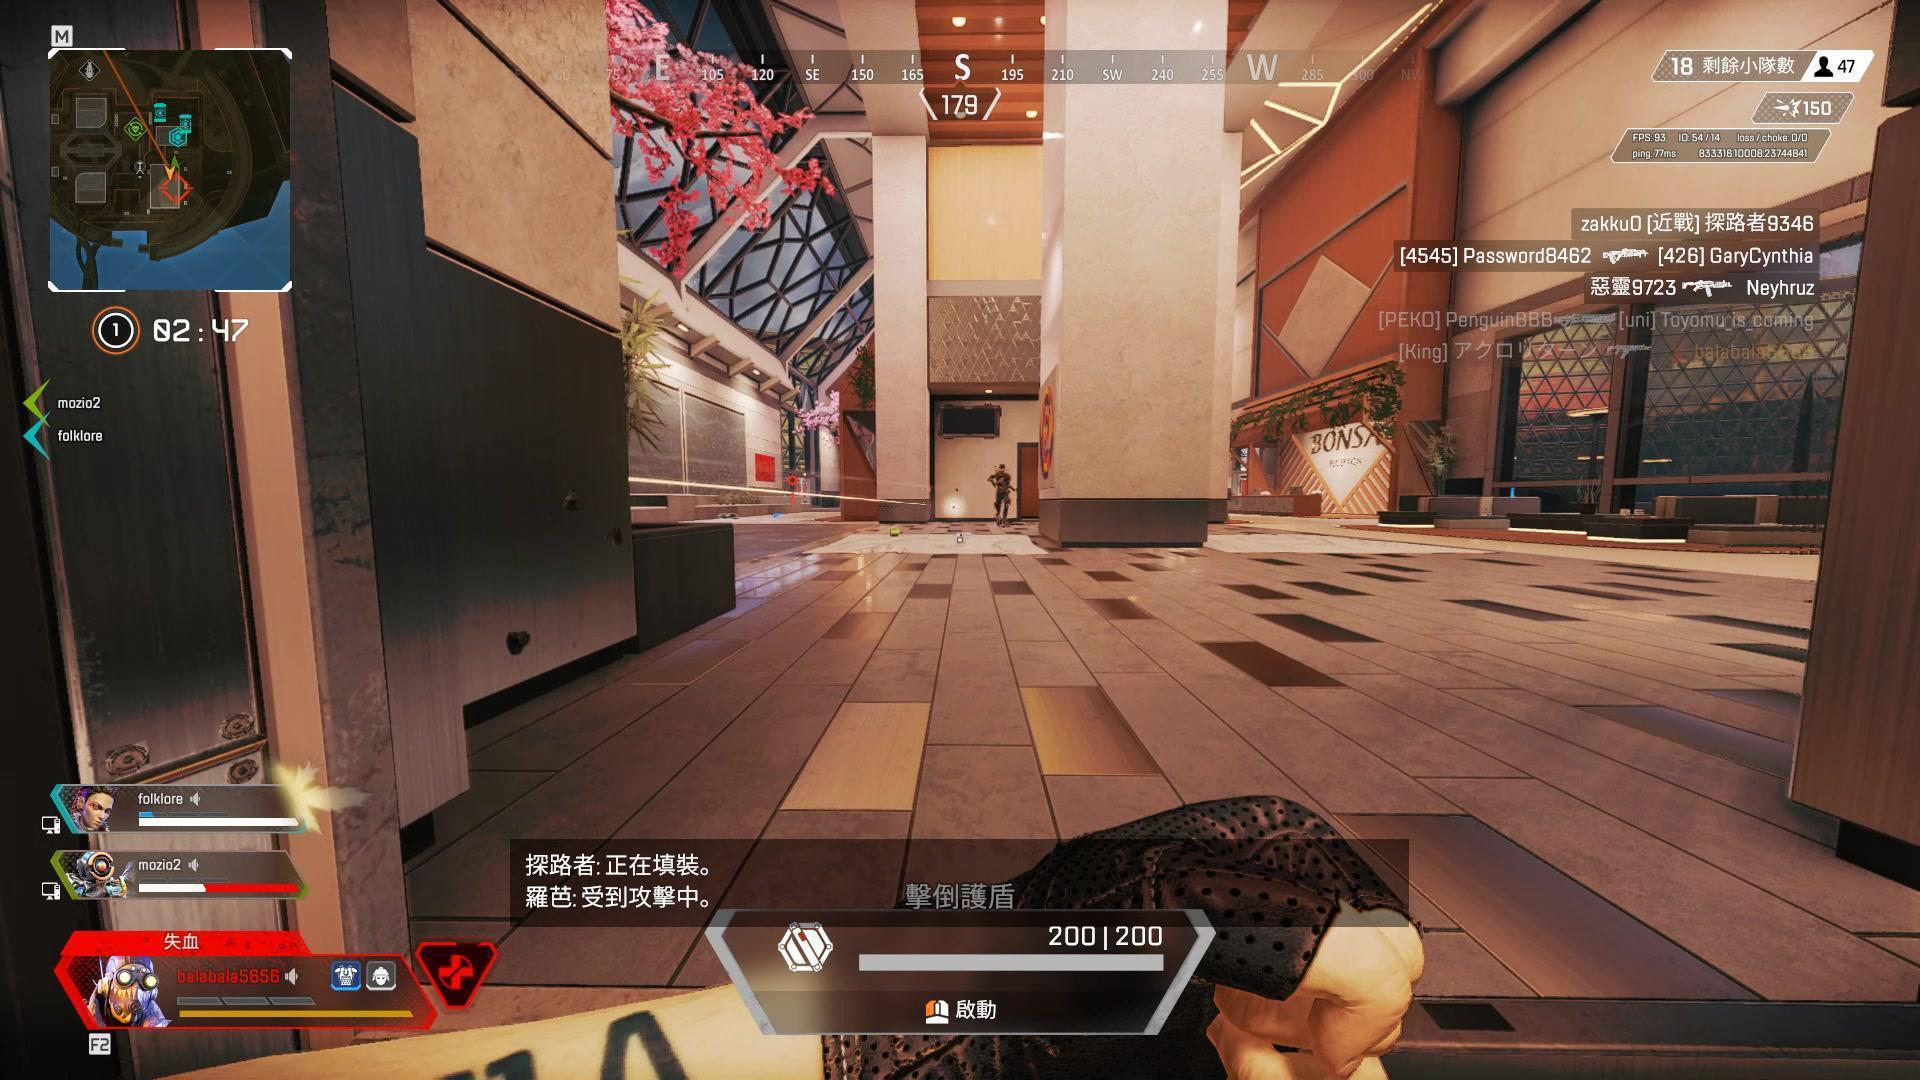avatar: (987, 459, 1015, 527)
